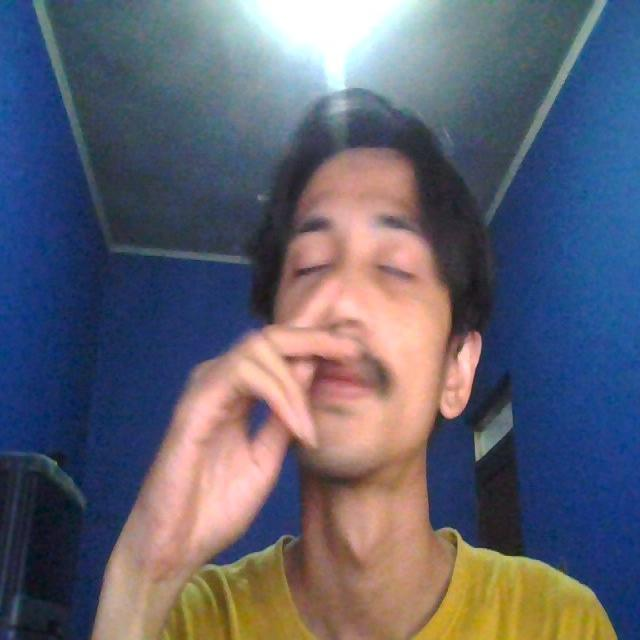movement: (152, 73, 534, 525)
